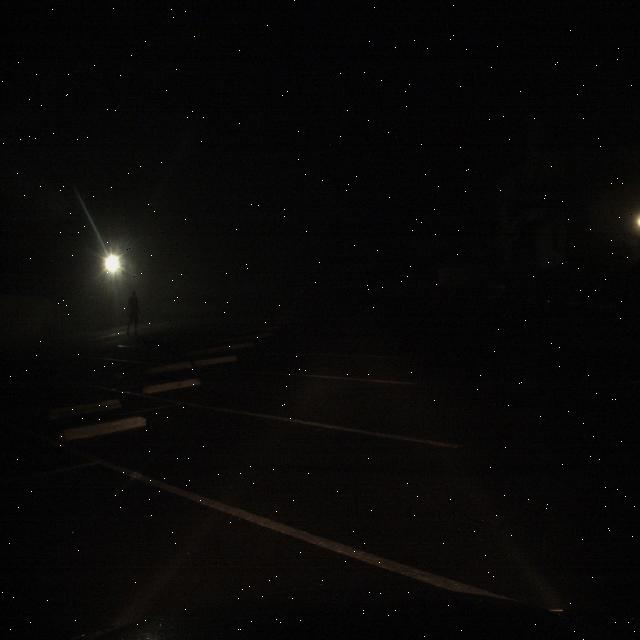humans: (126, 286, 140, 342)
